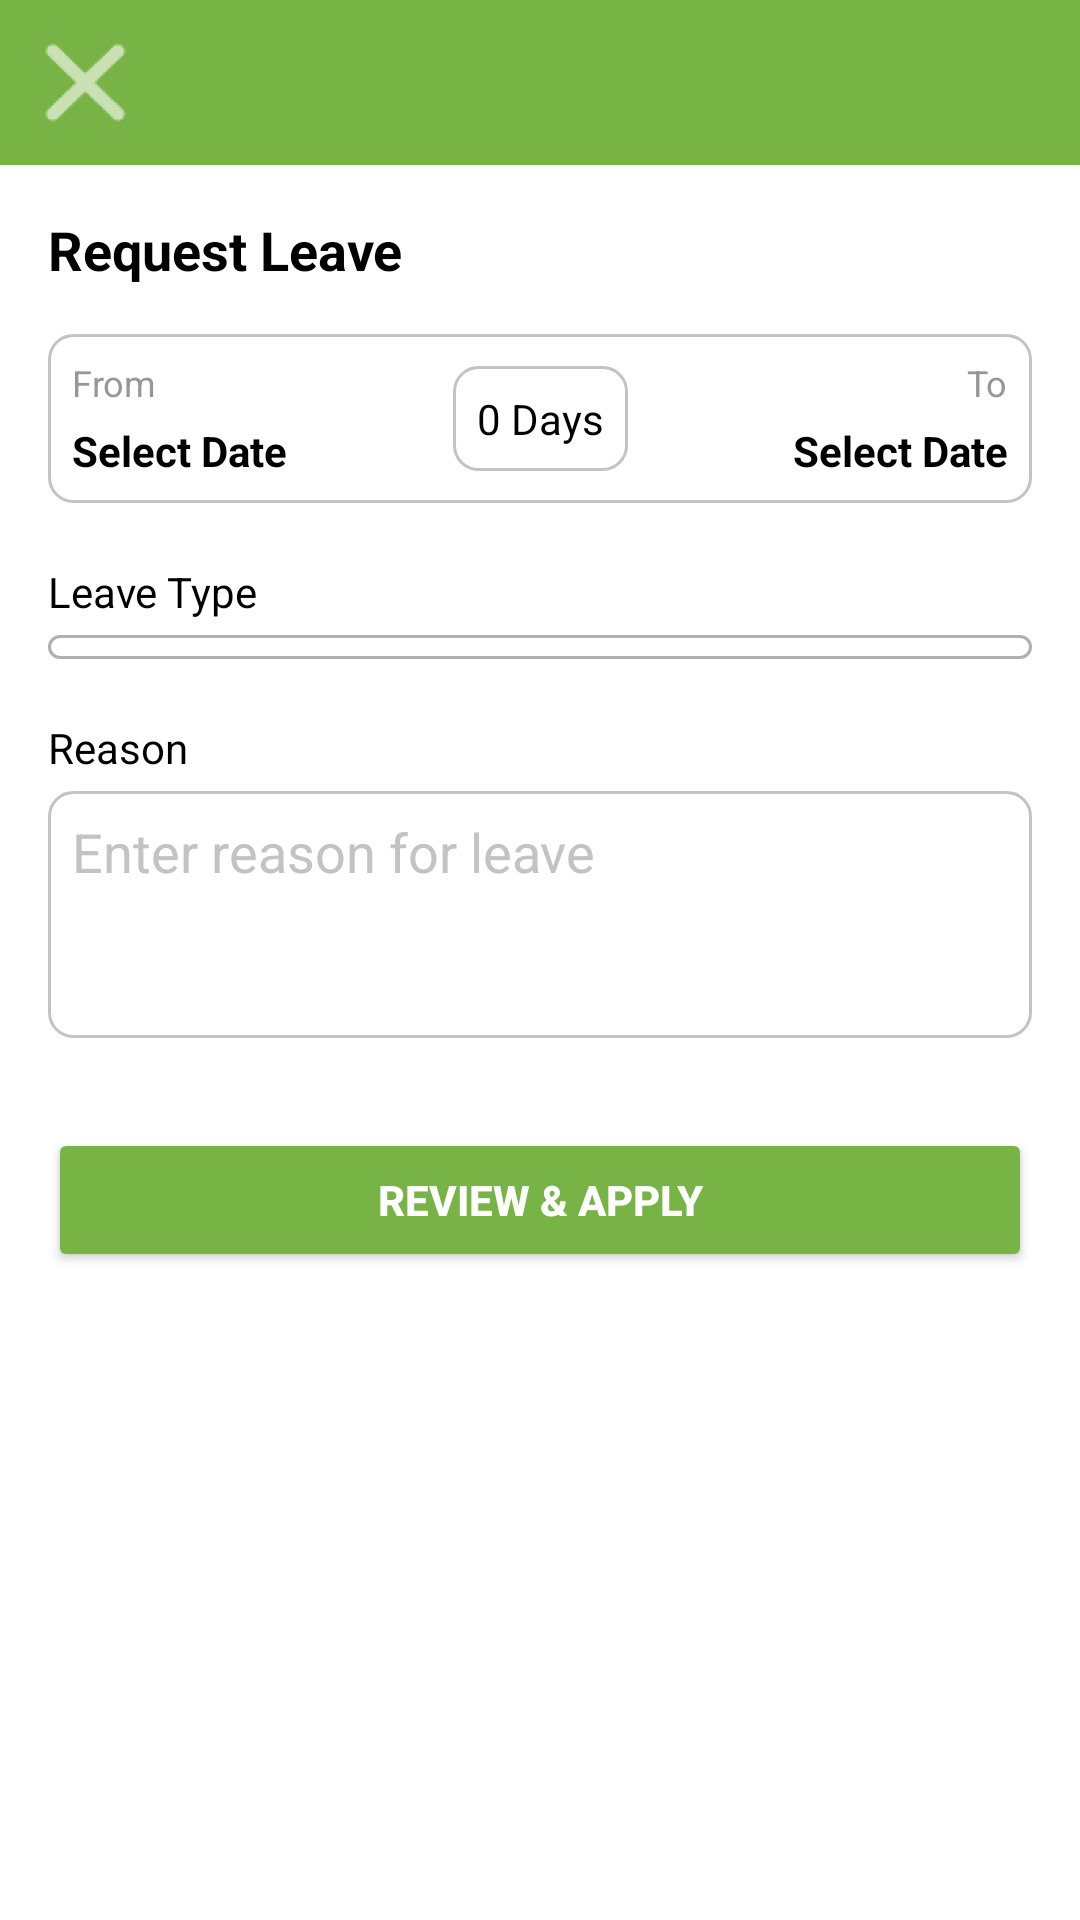

Named icons in this screenshot (1080px×1920px) and their centers, point (x, y):
close: point (85, 82)
